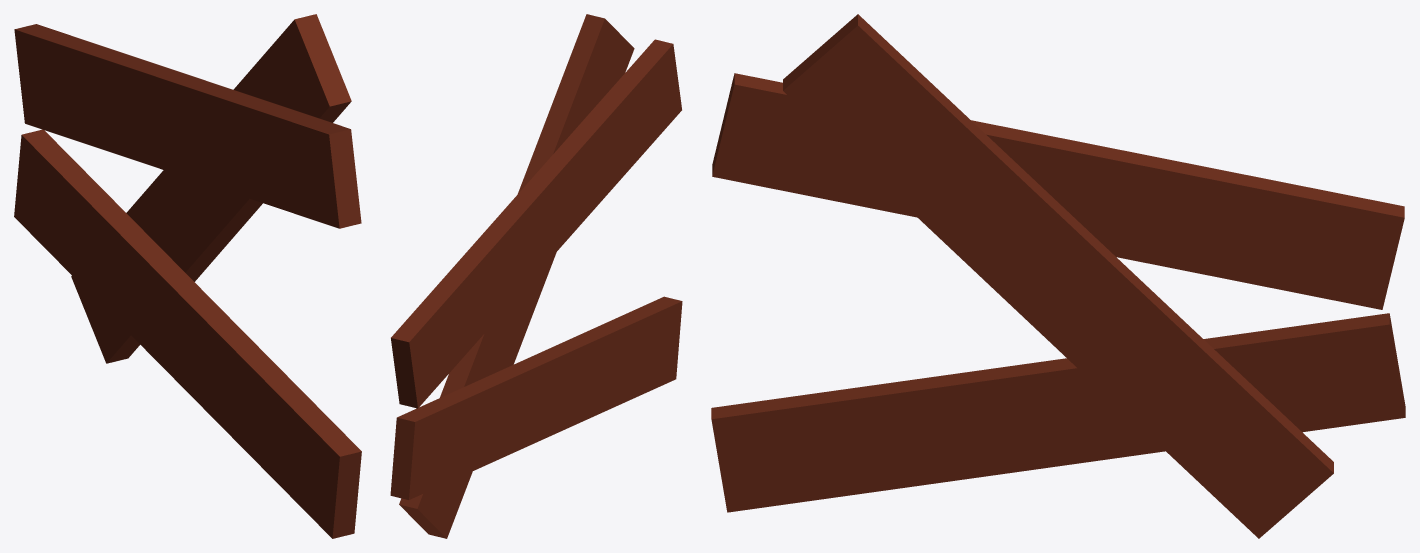
Rendered from planks.fbx.
The picture shows the model from 3 angles, left to right: view 1: azimuth 30°, elevation 25°; view 2: azimuth 150°, elevation 25°; view 3: azimuth 270°, elevation 25°; orthographic projection. The views are drawn at different scales.
Parts seen in each view (by area): view 1: Cube, Cube.001, Cube.002; view 2: Cube.001, Cube, Cube.002; view 3: Cube.002, Cube, Cube.001.
Part boxes in pixels (x1,y1,x2,y2): Cube: [14, 129, 361, 538]; Cube.001: [14, 24, 361, 228]; Cube.002: [71, 14, 351, 363]; Cube.001: [391, 39, 681, 408]; Cube: [390, 296, 682, 499]; Cube.002: [399, 14, 634, 538]; Cube.002: [783, 14, 1333, 538]; Cube: [711, 313, 1405, 512]; Cube.001: [712, 73, 1404, 309].
Size of the model in its own units: 54.9 by 557 by 682.
